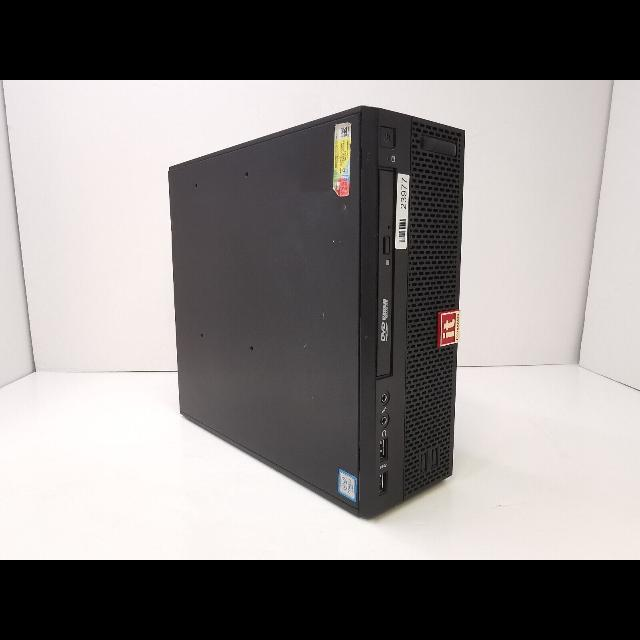Desktop-PC: (168, 100, 472, 524)
